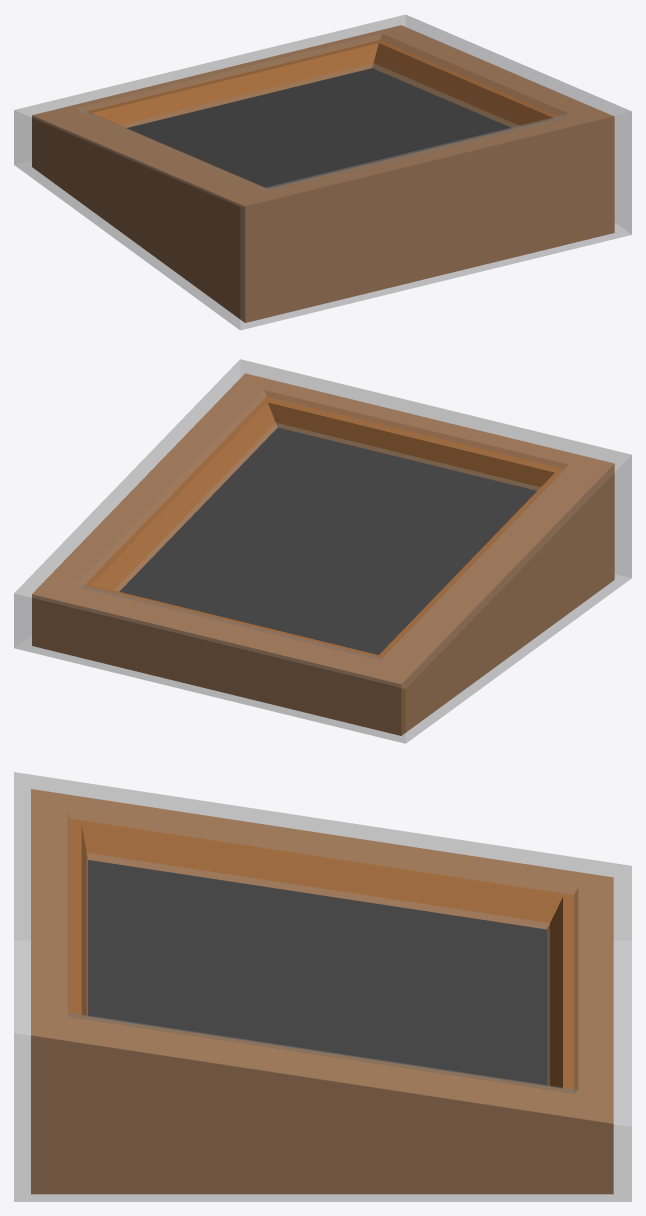
The model's file is Bud.fbx.
The picture shows the model from 3 angles, top to bottom: view 1: azimuth 30°, elevation 25°; view 2: azimuth 150°, elevation 25°; view 3: azimuth 270°, elevation 25°; orthographic projection. The views are drawn at different scales.
Visible parts, largest first — view 1: Bud_outline, Bud; view 2: Bud_outline, Bud; view 3: Bud_outline, Bud.
Boxes of the visible parts, x1,y1,x2,y2 form: Bud_outline: (14,14,631,330); Bud: (32,25,614,322); Bud_outline: (14,359,631,743); Bud: (32,373,614,735); Bud_outline: (14,772,631,1201); Bud: (31,789,613,1194).
Size of the model in its own units: 53.03 by 15.98 by 53.03.
